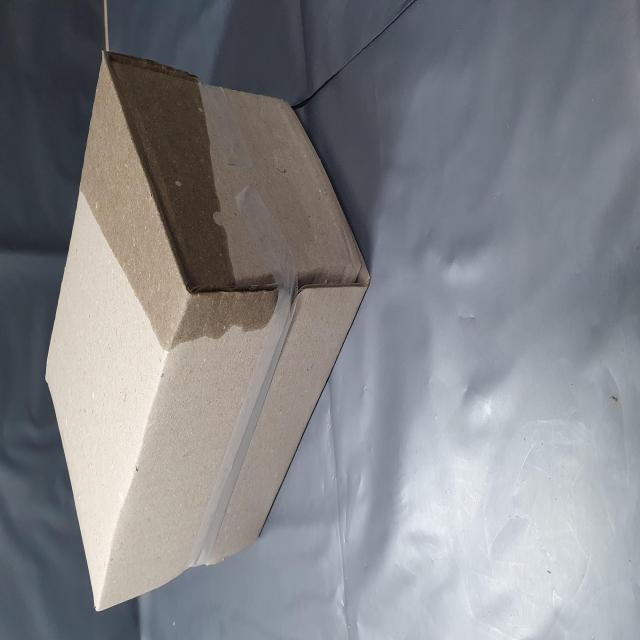wet: (139, 146, 340, 450)
